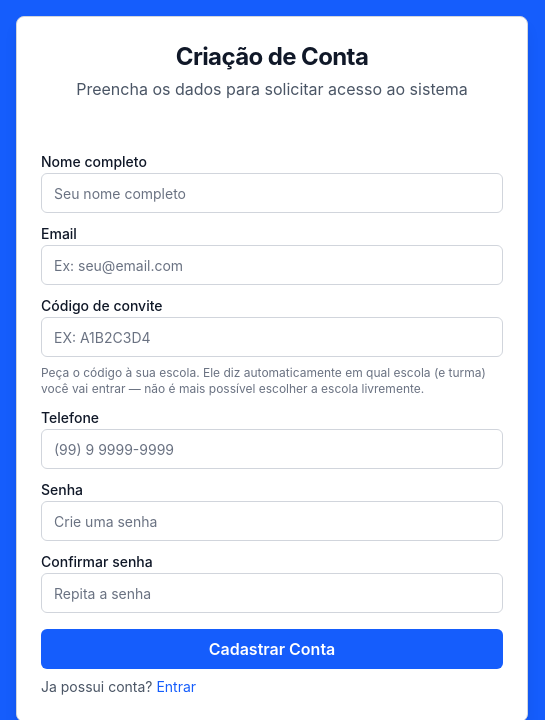
Test case: CadastroUsuario › mostra todas as mensagens quando o cadastro tem mais de um erro
In the field labelled "Nome completo": (272, 193) [41,173,503,213], type "Fulano de Tal"
In the field labelled "Email": (272, 265) [41,245,503,285], type "fulano@escola.com"
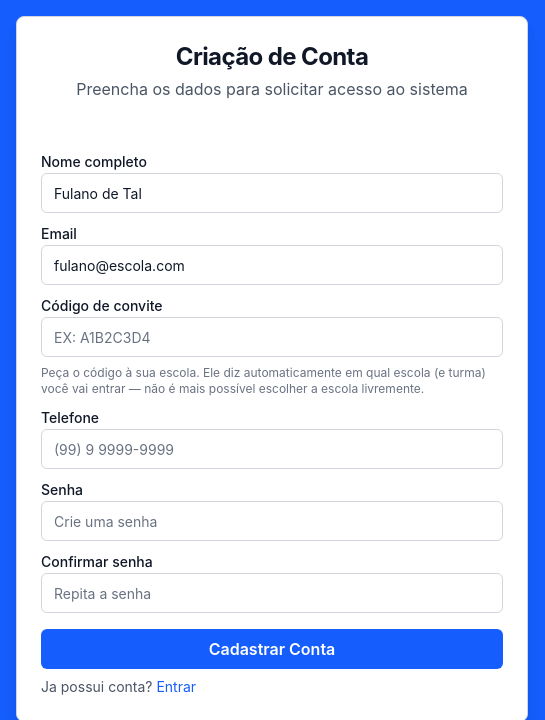
In the field labelled "Telefone": (272, 449) [41,429,503,469], type "51999999999"
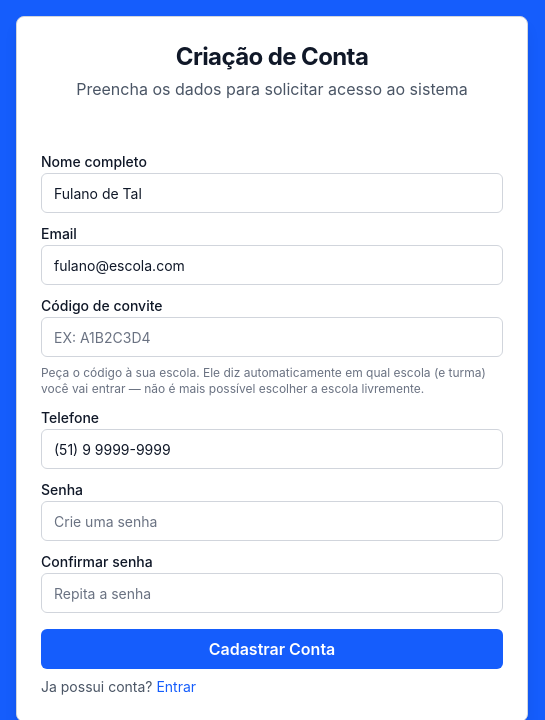
In the password field labelled "Senha": (272, 521) [41,501,503,541], type "senha123"
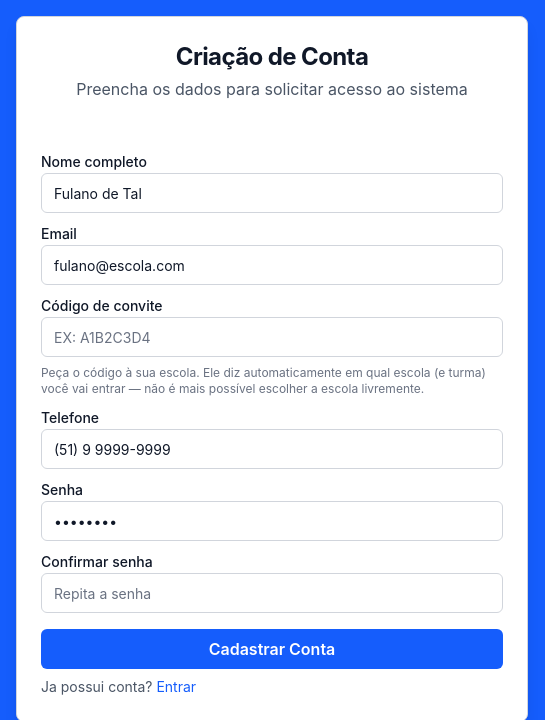
In the password field labelled "Confirmar senha": (272, 593) [41,573,503,613], type "senha123"
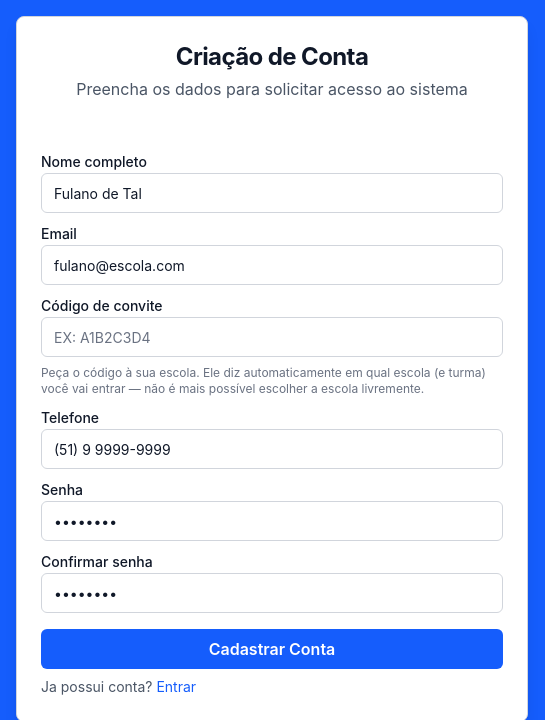
In the field labelled "Código de convite": (272, 337) [41,317,503,357], type "INVALIDO"
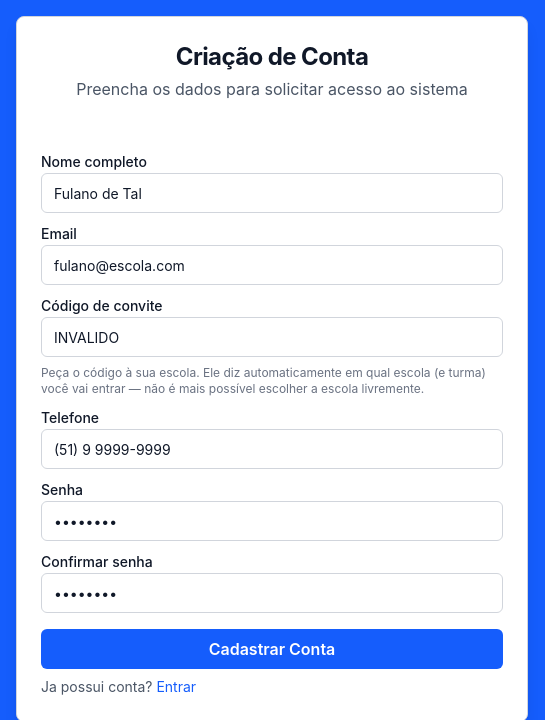
Click the button "Cadastrar Conta": click(272, 649) [41,629,503,669]
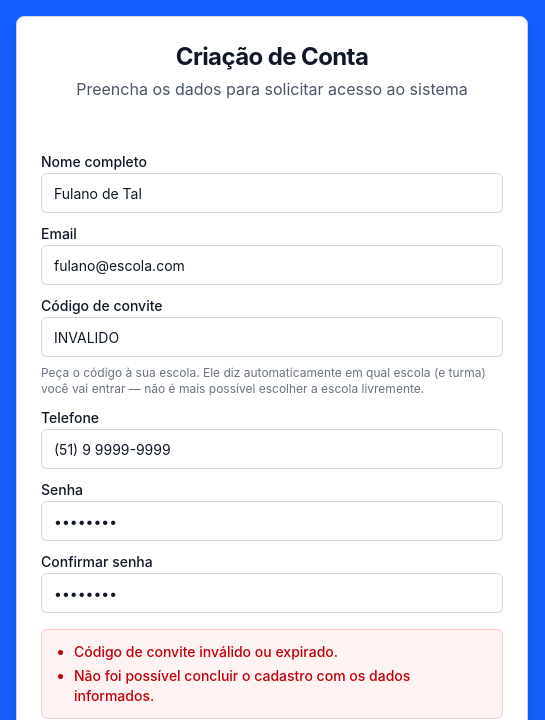
expect the message shows "Código de convite inválido ou expirado.": met, box [74,643,338,660]
expect the message shows "Não foi possível concluir o cadastro com os dados informados.": met, box [74,667,410,704]
expect the number of list items is 2: met, box [74,643,338,660]; [74,667,410,704]
